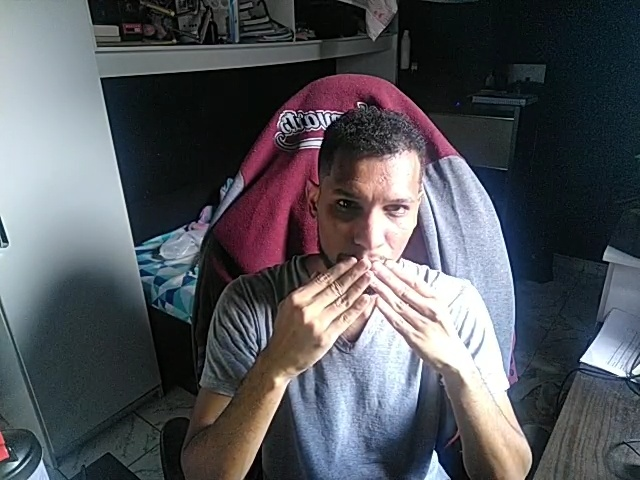obrigado: (262, 255, 460, 375)
